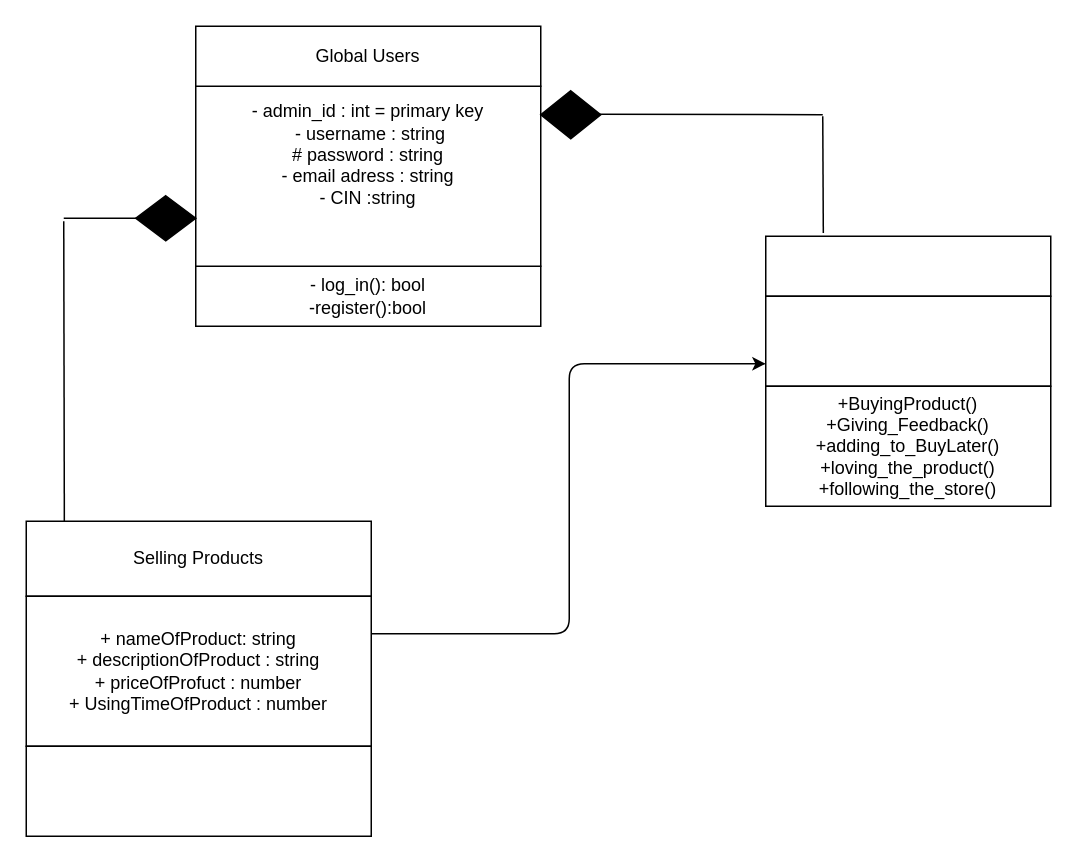
Image size: 1077x863. Some labels were removed from this diagram. The shapes that lost their labels are listed below. From the top down, each one's box as (x1, y1, x2, y2) in pixels, then its label:
(764, 235, 1051, 296): Buying Products
(764, 295, 1051, 386): +feedBackAboutSeller : string
(25, 745, 371, 836): +Posting_the_product() +Editing_On_The_Product() +negotiation_on_chatbox()
